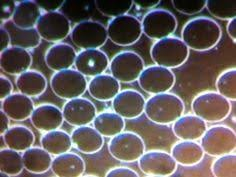Malaria: (145, 91, 184, 126), (193, 89, 231, 124), (182, 19, 219, 50), (107, 15, 143, 46), (51, 69, 87, 99), (111, 131, 144, 162), (141, 149, 176, 176), (140, 65, 175, 91), (111, 52, 142, 81), (144, 9, 176, 37), (72, 128, 102, 156), (113, 92, 144, 119), (63, 99, 95, 125), (1, 46, 29, 75), (38, 14, 69, 40), (175, 116, 207, 141), (33, 105, 61, 132), (23, 147, 51, 173), (89, 75, 118, 99), (41, 133, 74, 154)
